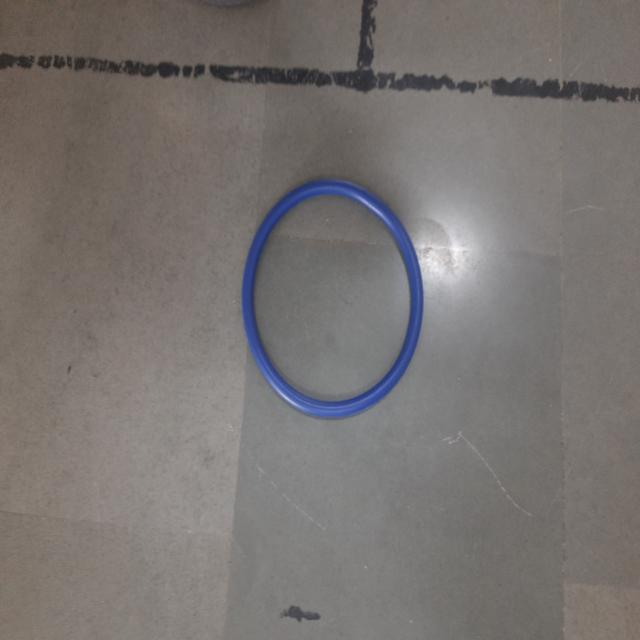daire: (241, 175, 424, 415)
